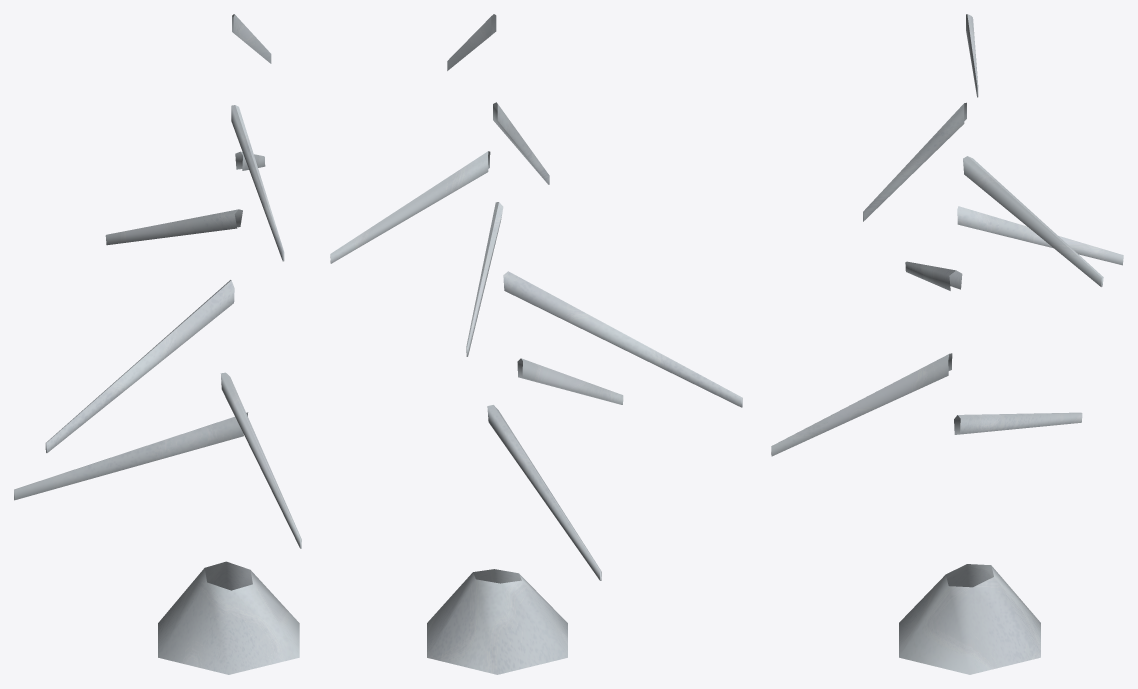
Rendered from TreeStub_2_Snow.fbx.
3 renders of one model, left to right at view 1: azimuth 30°, elevation 25°; view 2: azimuth 150°, elevation 25°; view 3: azimuth 270°, elevation 25°, orthographic.
Visible parts, largest first — view 1: TreeStub_2_Snow; view 2: TreeStub_2_Snow; view 3: TreeStub_2_Snow.
Part boxes in pixels (bbox=[...]): TreeStub_2_Snow: bbox=[14, 14, 301, 674]; TreeStub_2_Snow: bbox=[330, 14, 742, 674]; TreeStub_2_Snow: bbox=[771, 14, 1123, 674].
Size of the model in its own units: 610 by 1154 by 587.
